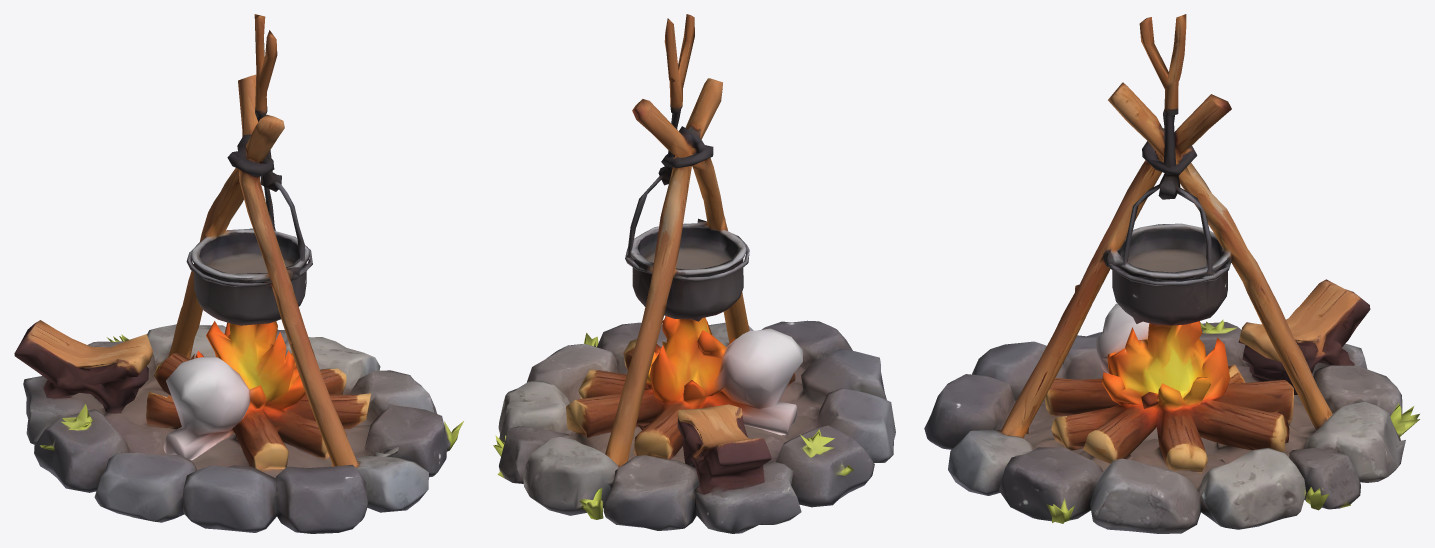
File: prop_campfire_v2_model.glb
3 views of the same model, side by side, from view 1: azimuth 30°, elevation 25°; view 2: azimuth 150°, elevation 25°; view 3: azimuth 270°, elevation 25° (orthographic). The views are drawn at different scales.
Visible parts, largest first — view 1: tripo_node_a8f381ea-1226-430c-adef-762790d6b6b0; view 2: tripo_node_a8f381ea-1226-430c-adef-762790d6b6b0; view 3: tripo_node_a8f381ea-1226-430c-adef-762790d6b6b0.
Boxes of the visible parts, <box> form: tripo_node_a8f381ea-1226-430c-adef-762790d6b6b0: <box>14,14,463,533</box>; tripo_node_a8f381ea-1226-430c-adef-762790d6b6b0: <box>493,14,895,533</box>; tripo_node_a8f381ea-1226-430c-adef-762790d6b6b0: <box>924,14,1419,533</box>.
Bounding box in the file's own units: 0.8535 × 0.9981 × 1.
1 material, 1 textured.
